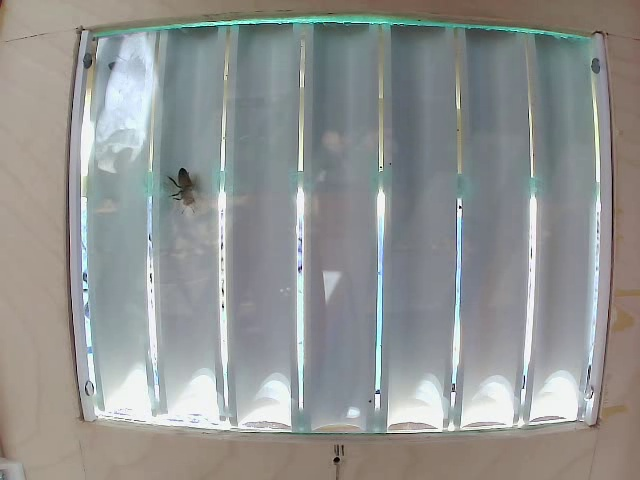bee: (169, 166, 210, 220)
